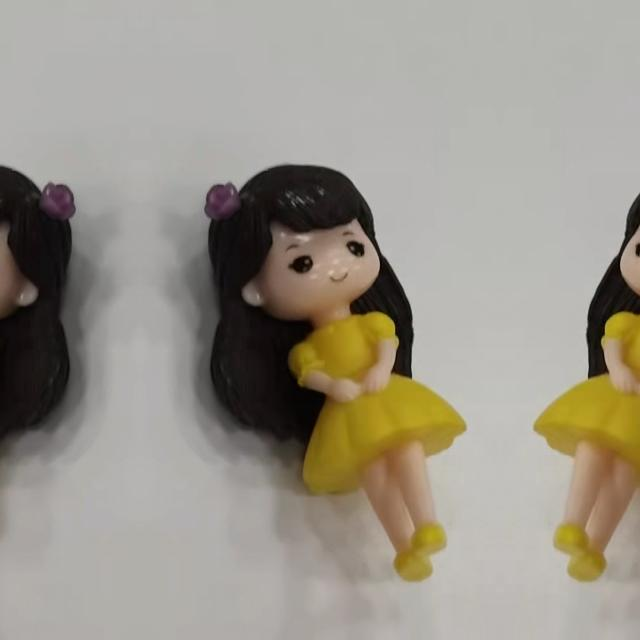woman dress: (295, 309, 467, 597), (533, 309, 640, 597)
woman head: (194, 160, 400, 342), (0, 160, 86, 341), (599, 160, 640, 341)
